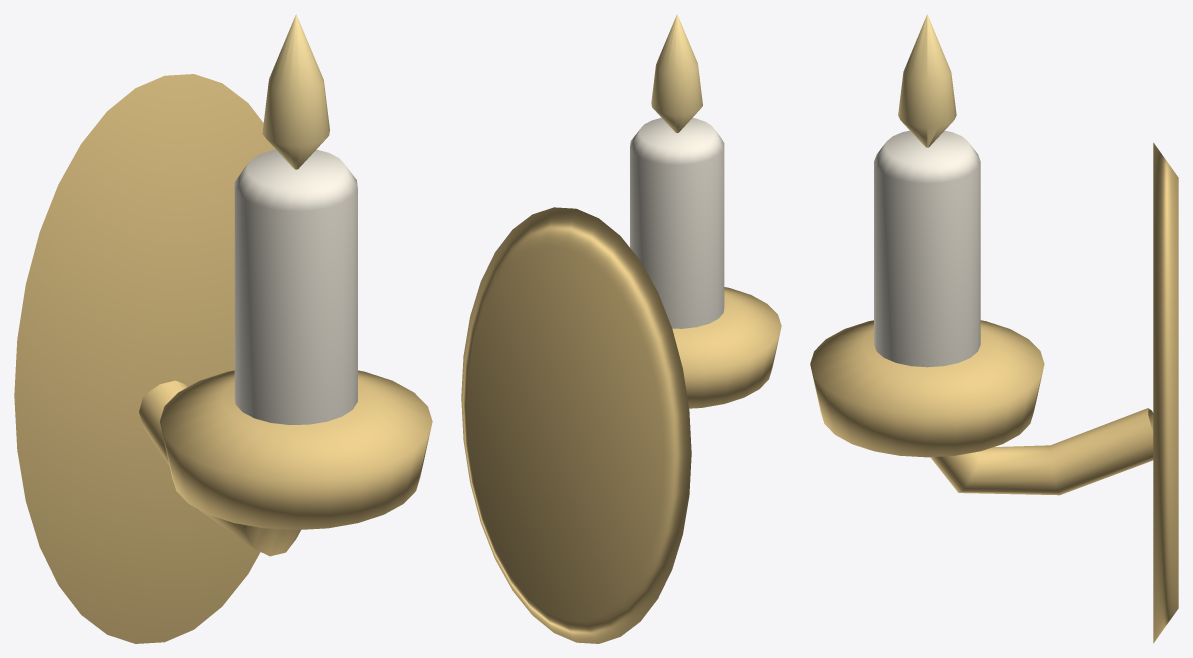
Rendered from sconce4.glb.
The picture shows the model from 3 angles, left to right: view 1: azimuth 30°, elevation 25°; view 2: azimuth 150°, elevation 25°; view 3: azimuth 270°, elevation 25°; orthographic projection. The views are drawn at different scales.
Parts seen in each view (by area): view 1: plate, wax, cup, flame, arm; view 2: plate, wax, cup, flame; view 3: wax, cup, plate, arm, flame.
Part boxes in pixels (left/top/right/bottom): plate: left=14, top=74, right=275, bottom=643; wax: left=234, top=149, right=357, bottom=424; cup: left=160, top=370, right=432, bottom=529; flame: left=262, top=14, right=329, bottom=169; arm: left=139, top=380, right=300, bottom=556; plate: left=461, top=207, right=691, bottom=643; wax: left=630, top=118, right=724, bottom=328; cup: left=672, top=287, right=781, bottom=408; flame: left=651, top=14, right=702, bottom=132; wax: left=874, top=130, right=980, bottom=367; cup: left=810, top=320, right=1044, bottom=457; plate: left=1153, top=142, right=1178, bottom=643; arm: left=930, top=408, right=1153, bottom=495; flame: left=898, top=14, right=956, bottom=147.
Bounding box in the file's own units: 0.14 × 0.3222 × 0.173.
